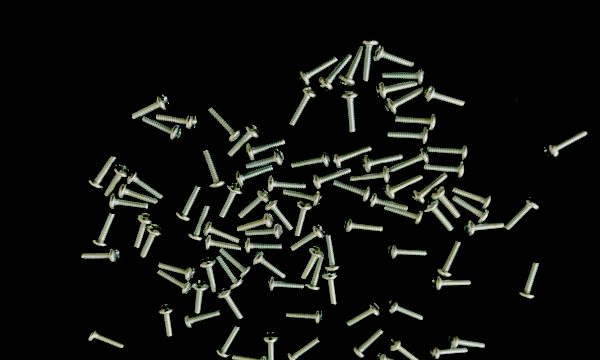shortscrew: (319, 52, 355, 92), (544, 129, 590, 160), (298, 55, 340, 86), (505, 196, 541, 232), (208, 106, 243, 143), (289, 84, 319, 127), (226, 124, 262, 158), (127, 169, 164, 200), (452, 195, 491, 224), (131, 93, 171, 121), (388, 148, 431, 174), (339, 45, 365, 88), (142, 115, 183, 142), (88, 153, 118, 189), (385, 87, 424, 114), (374, 43, 416, 68), (216, 255, 246, 290), (331, 143, 371, 169), (352, 328, 385, 359), (218, 248, 252, 278), (253, 251, 288, 280), (265, 198, 294, 232), (291, 224, 326, 252), (346, 300, 382, 327), (384, 202, 424, 226), (424, 87, 467, 109), (452, 186, 493, 209), (332, 179, 371, 203), (177, 185, 203, 221), (437, 241, 462, 278), (219, 182, 244, 219), (157, 270, 194, 295), (246, 138, 286, 161), (235, 164, 275, 187), (203, 149, 226, 189), (386, 298, 424, 322), (118, 183, 159, 205), (218, 287, 245, 320), (104, 164, 130, 198), (368, 192, 410, 213), (360, 36, 379, 82), (245, 149, 286, 170), (203, 221, 240, 244), (139, 224, 164, 258), (361, 153, 403, 173), (92, 213, 116, 248), (520, 261, 542, 299), (188, 205, 211, 241), (340, 90, 359, 133), (300, 246, 324, 280), (287, 337, 322, 360), (290, 150, 330, 170), (87, 328, 125, 349), (237, 212, 275, 233), (156, 112, 198, 131), (423, 161, 467, 179), (158, 261, 197, 281), (387, 242, 428, 261), (133, 212, 154, 249), (387, 127, 430, 145), (395, 113, 438, 131), (376, 82, 419, 100), (216, 326, 240, 358), (382, 68, 426, 85), (294, 200, 314, 237), (388, 338, 421, 360), (432, 274, 472, 292), (427, 143, 469, 160), (245, 222, 284, 240), (199, 258, 219, 293), (464, 220, 505, 237), (447, 333, 488, 350), (344, 217, 385, 234), (350, 167, 391, 184), (81, 248, 121, 265), (110, 193, 150, 210), (184, 311, 221, 329), (324, 234, 341, 272), (305, 257, 324, 291), (205, 235, 242, 252), (321, 271, 339, 305), (268, 276, 306, 292), (429, 345, 469, 360), (158, 303, 175, 338), (245, 239, 284, 254), (192, 280, 209, 314), (286, 311, 324, 324), (264, 332, 279, 360), (376, 352, 412, 360), (231, 353, 268, 360)
